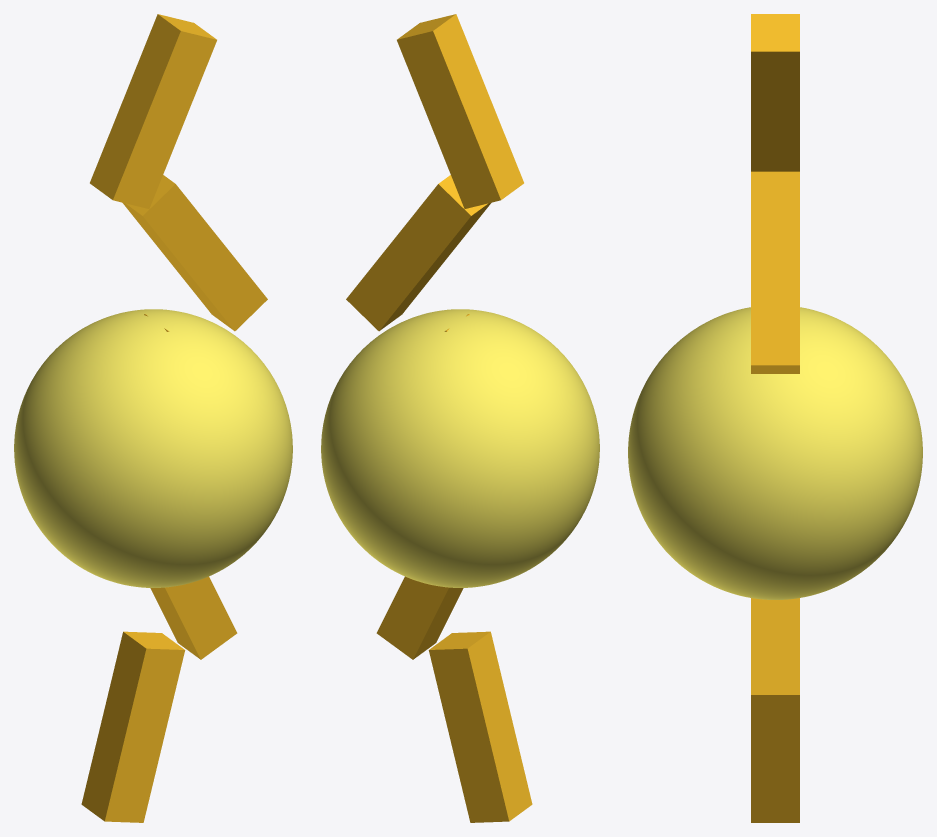
File: yildirim.glb
3 renders of one model, left to right at view 1: azimuth 30°, elevation 25°; view 2: azimuth 150°, elevation 25°; view 3: azimuth 270°, elevation 25°, orthographic. The views are drawn at different scales.
Bounding box in the file's own units: 0.012 × 0.0372 × 0.012.
